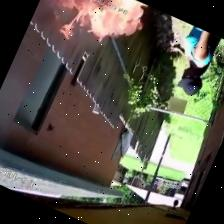person: (178, 26, 219, 94)
